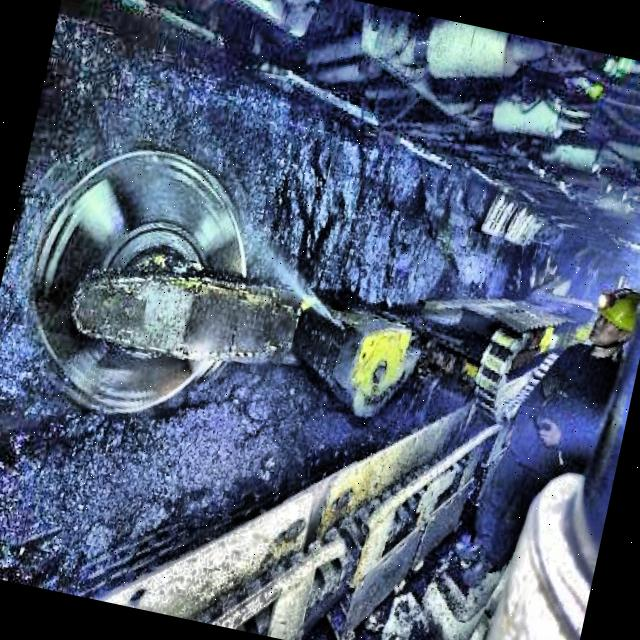helmet: (588, 282, 640, 353)
